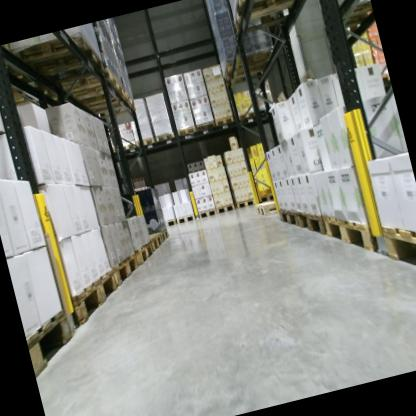pallet: (10, 27, 111, 97), (219, 41, 285, 123), (21, 304, 84, 381), (51, 65, 132, 117), (318, 204, 381, 265), (222, 0, 325, 37), (62, 267, 125, 327), (66, 85, 137, 128), (378, 214, 416, 289), (328, 0, 375, 31), (109, 251, 143, 288), (295, 207, 328, 242), (113, 135, 157, 157), (275, 199, 301, 233), (195, 112, 237, 133), (132, 238, 157, 268), (255, 198, 280, 220), (146, 230, 165, 253), (154, 129, 177, 146), (176, 122, 199, 138), (214, 201, 237, 216), (233, 196, 257, 209), (197, 207, 219, 219), (259, 191, 278, 203), (160, 218, 178, 230), (176, 215, 196, 225), (157, 228, 171, 241)
